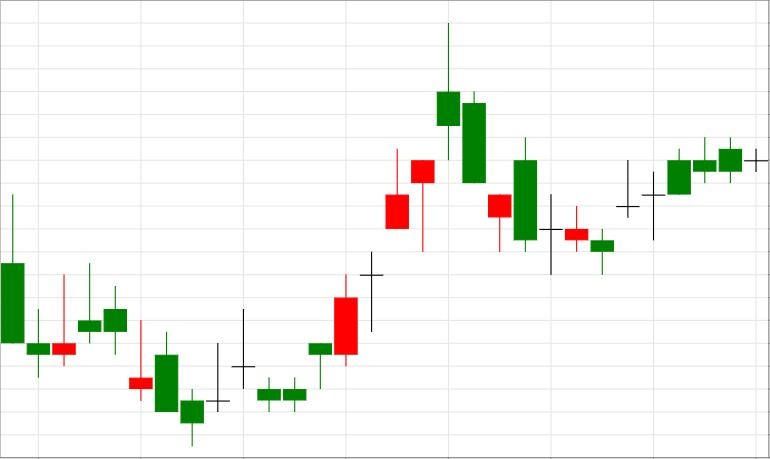shooting_star_fall: (334, 23, 460, 366)
